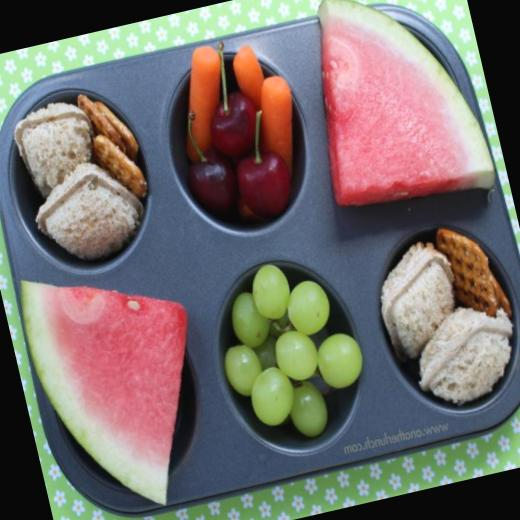Cherry: (14, 245, 228, 520), (291, 0, 499, 220)
